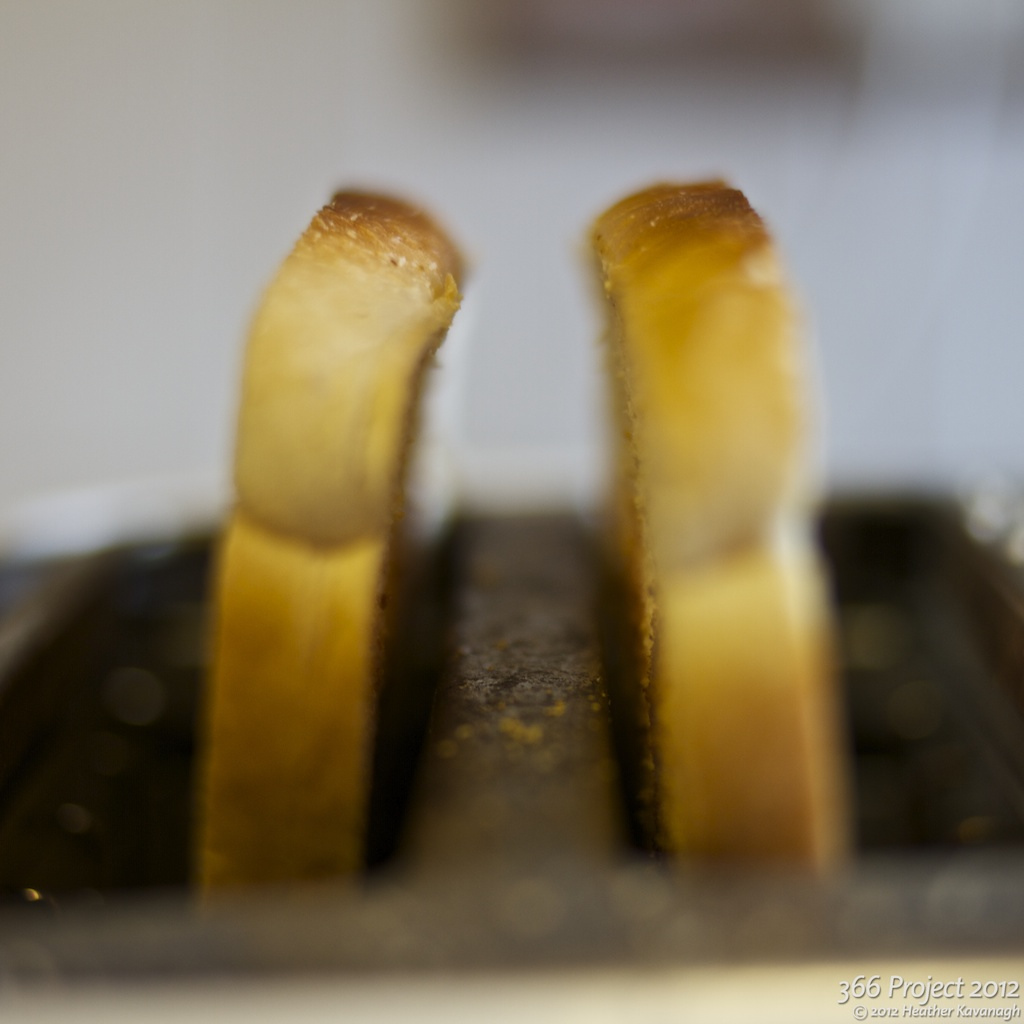slice of bread: (575, 170, 865, 881), (220, 189, 445, 889)
